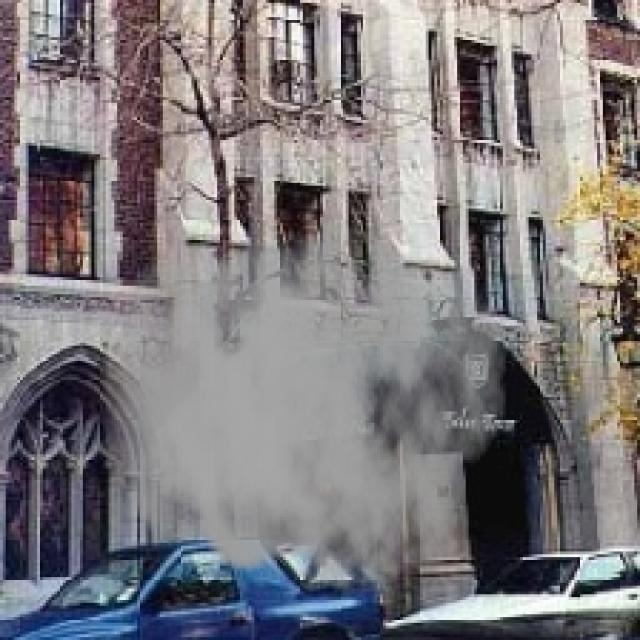smoke: (100, 183, 509, 608)
